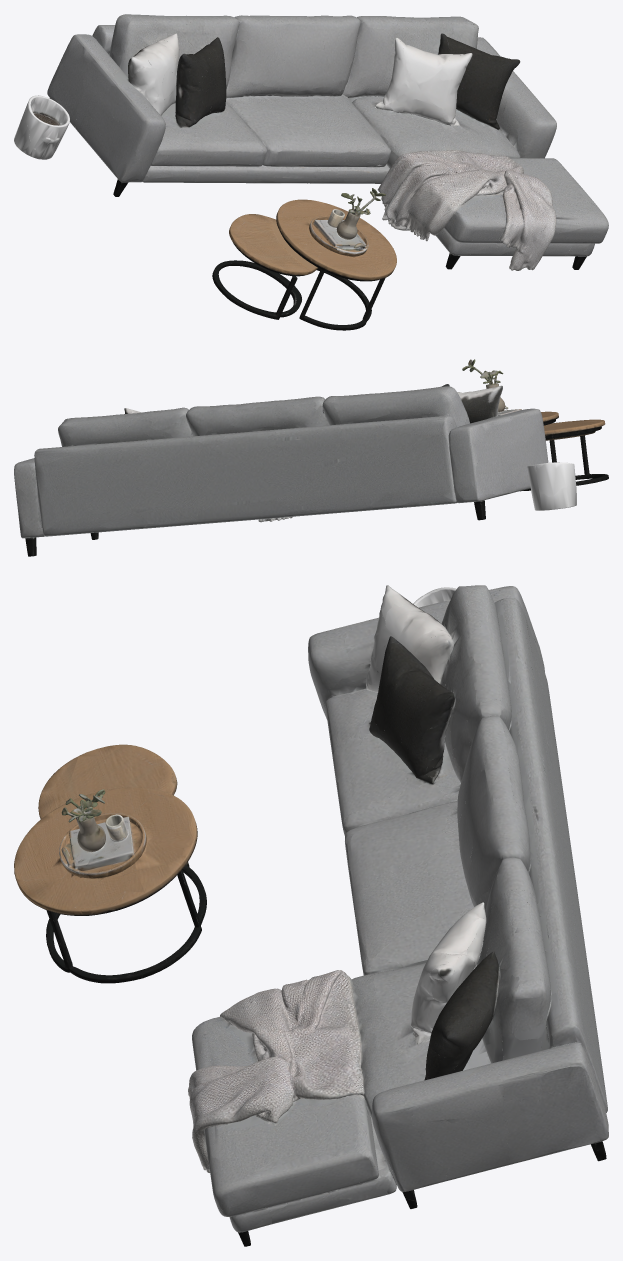
Rendered from sofa_final.glb.
3 views of the same model, one above another, from view 1: azimuth 30°, elevation 25°; view 2: azimuth 150°, elevation 25°; view 3: azimuth 270°, elevation 25° (orthographic). The views are drawn at different scales.
Visible parts, largest first — view 1: node_id4; view 2: node_id4; view 3: node_id4.
Part boxes in pixels (x1,y1,x2,y2): node_id4: (14,14,608,330); node_id4: (14,359,608,556); node_id4: (14,585,608,1246).
Size of the model in its own units: 0.5102 by 0.2685 by 0.3583.
1 material, 1 textured.
